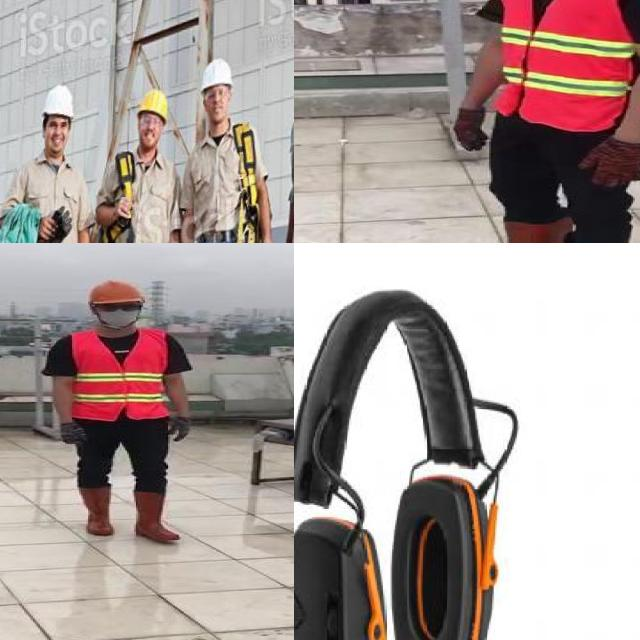Ear-protection: (294, 298, 514, 640)
Harness: (233, 123, 260, 243)
boots: (459, 220, 571, 243), (134, 488, 180, 542), (77, 485, 116, 538)
face_mask: (94, 301, 142, 327)
glasses: (95, 301, 150, 315)
hand_glove: (579, 137, 640, 187), (453, 109, 488, 152), (56, 420, 86, 447), (170, 417, 196, 444)
head_helmet: (84, 279, 148, 306)
person: (445, 0, 640, 243), (38, 278, 193, 548)
vest: (492, 0, 640, 129), (68, 330, 170, 420)
